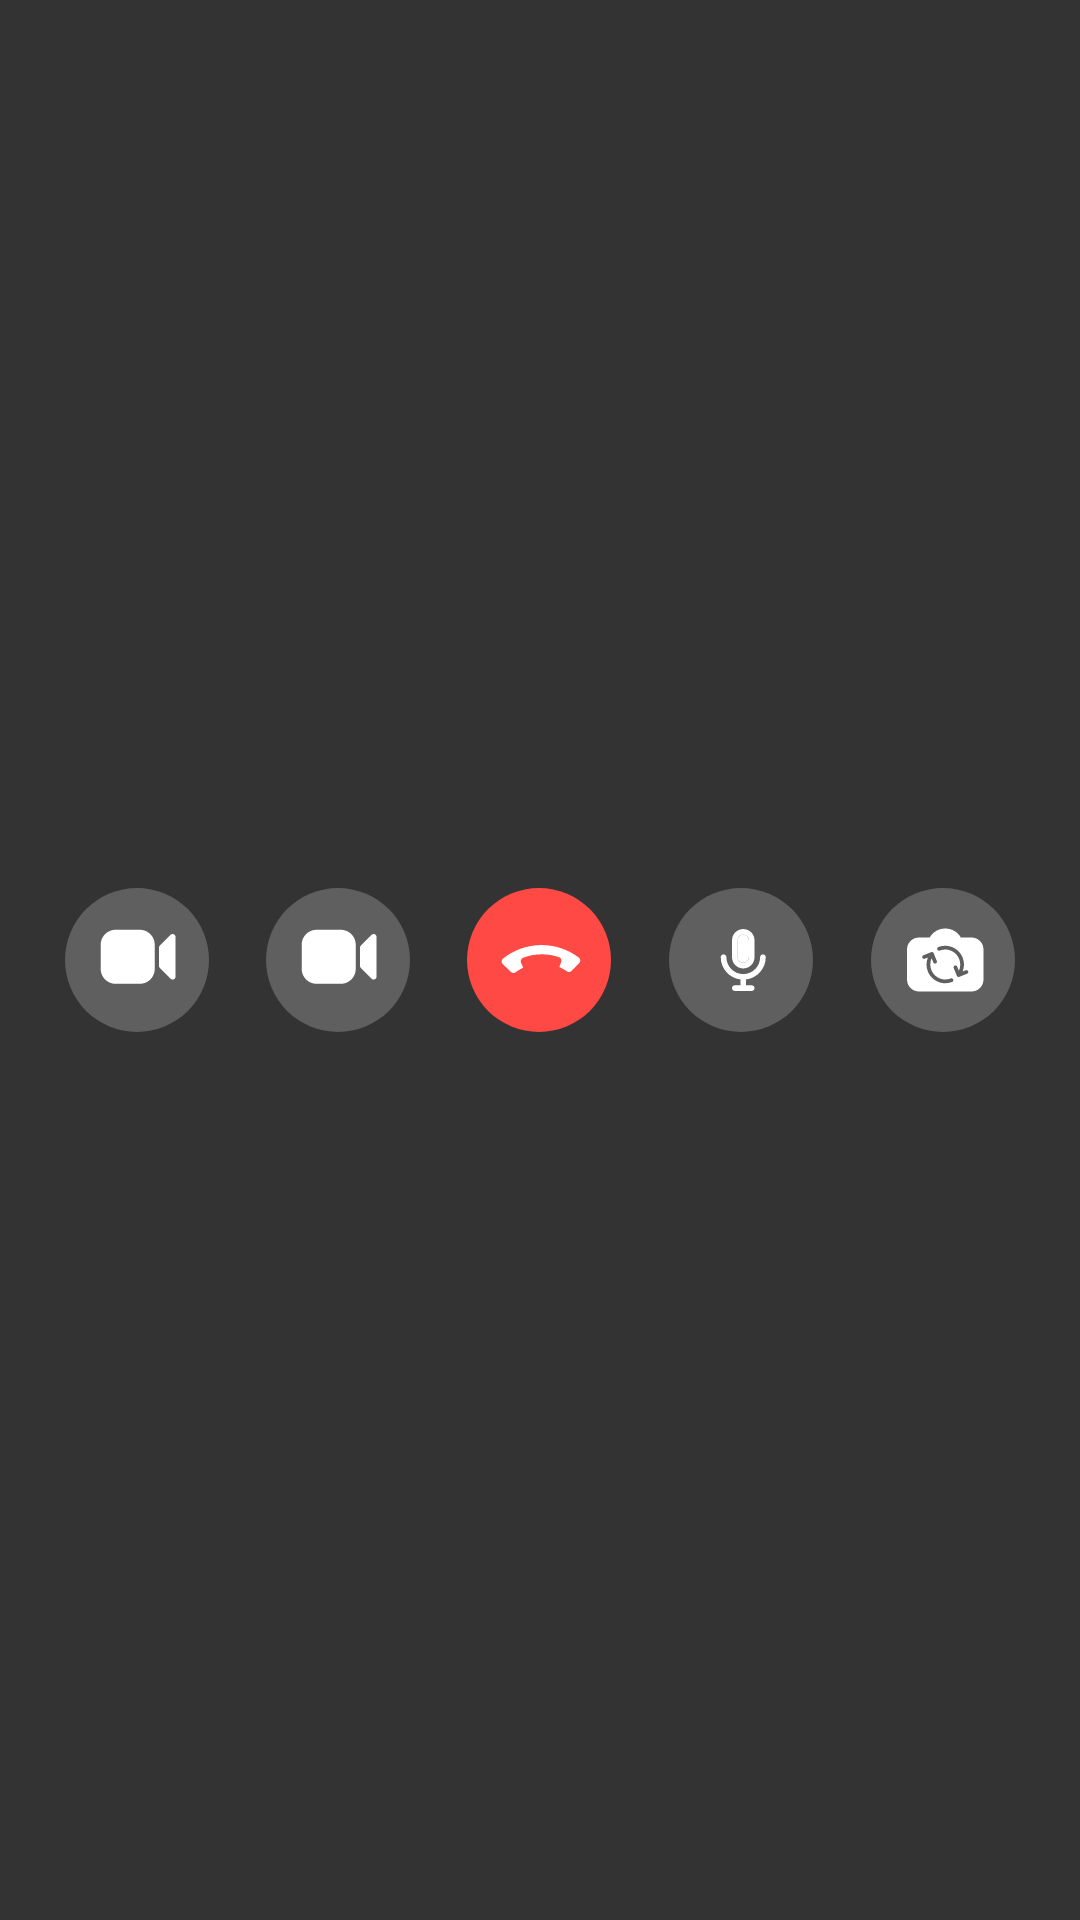

Screen size 1080w x 1920h. Icon name, then its center in pixels as (x=x, y=y):
cancel call: (x=539, y=960)
mic: (x=741, y=960)
swap camera: (x=943, y=960)
video: (x=137, y=960), (x=338, y=960)
